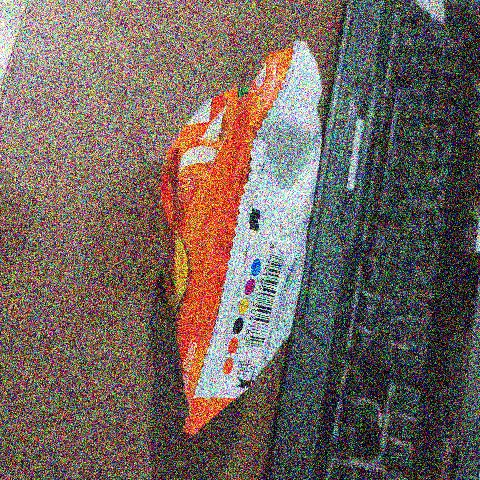lays_orange_pack: (134, 42, 351, 438)
